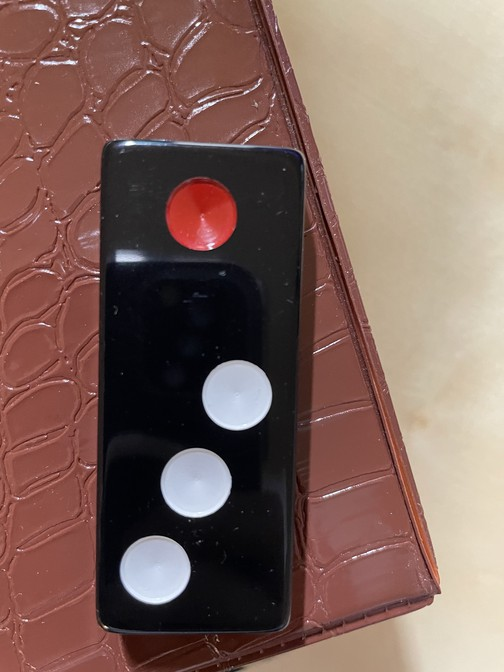goose: (97, 138, 305, 635)
